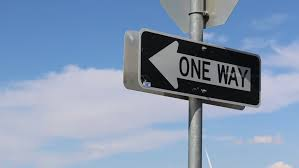oneWay: (139, 27, 264, 108)
